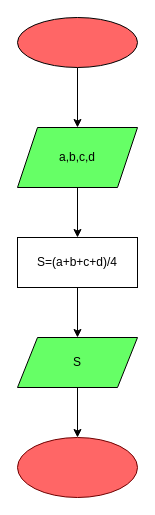
This 155x515 diagram has some shape labels left out. The shapes that lost their labels are listed below. From the top down, each one's centre as x and y in pixels, then its label:
At pixel 77 42: "start".
At pixel 77 467: "finish".
